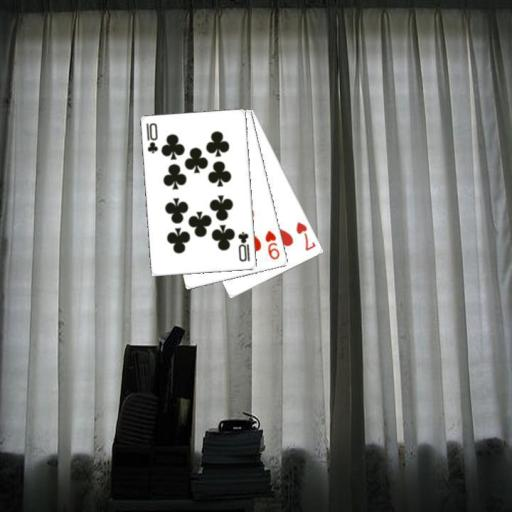10C: (235, 229, 252, 263), (144, 119, 159, 155)
7H: (293, 219, 318, 252)
9H: (263, 228, 282, 261)
